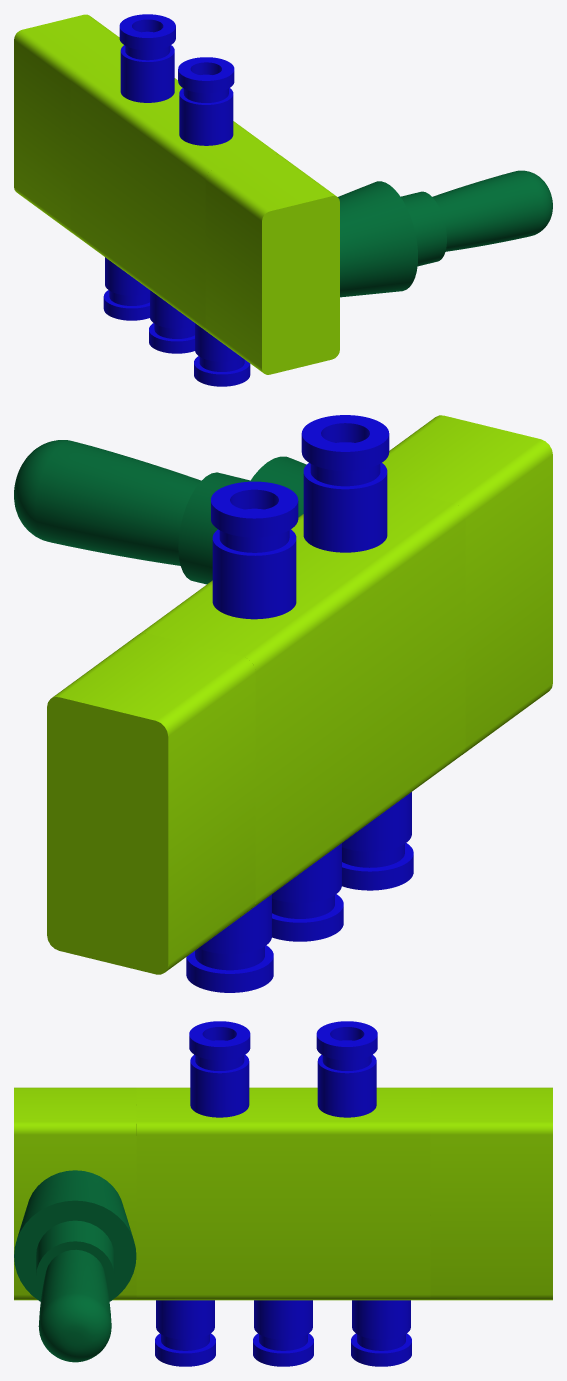
File: ValveD.fbx
3 views of the same model, one above another, from view 1: azimuth 30°, elevation 25°; view 2: azimuth 150°, elevation 25°; view 3: azimuth 270°, elevation 25° (orthographic). The views are drawn at different scales.
Parts seen in each view (by area): view 1: Body, Lever, RacorD, RacorE, RacorA, RacorC, RacorB; view 2: Body, Lever, RacorD, RacorE, RacorC, RacorA, RacorB; view 3: Body, Lever, RacorD, RacorE, RacorB, RacorC, RacorA.
Boxes of the visible parts, x1,y1,x2,y2 form: Body: (14,14,339,374); Lever: (338,170,552,297); RacorD: (178,57,234,145); RacorE: (119,14,175,102); RacorA: (194,323,250,386); RacorC: (103,257,149,320); RacorB: (149,290,194,353); Body: (47,415,552,974); Lever: (14,440,306,584); RacorD: (301,415,389,552); RacorE: (211,481,298,619); RacorC: (186,894,273,992); RacorA: (342,792,413,890); RacorB: (272,843,343,941); Body: (14,1087,552,1300); Lever: (14,1170,136,1362); RacorD: (189,1021,250,1117); RacorE: (316,1021,377,1117); RacorB: (253,1300,313,1366); RacorC: (351,1300,411,1366); RacorA: (155,1300,215,1366).
Size of the model in its own units: 0.8 by 0.72 by 1.1.
